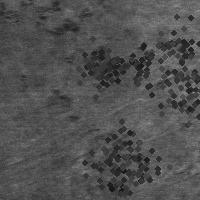rolled-in_scale: (62, 101, 166, 200), (80, 117, 172, 200), (135, 37, 200, 137), (134, 5, 200, 89), (105, 28, 175, 98), (69, 33, 131, 95), (70, 122, 127, 172), (33, 1, 101, 39)
